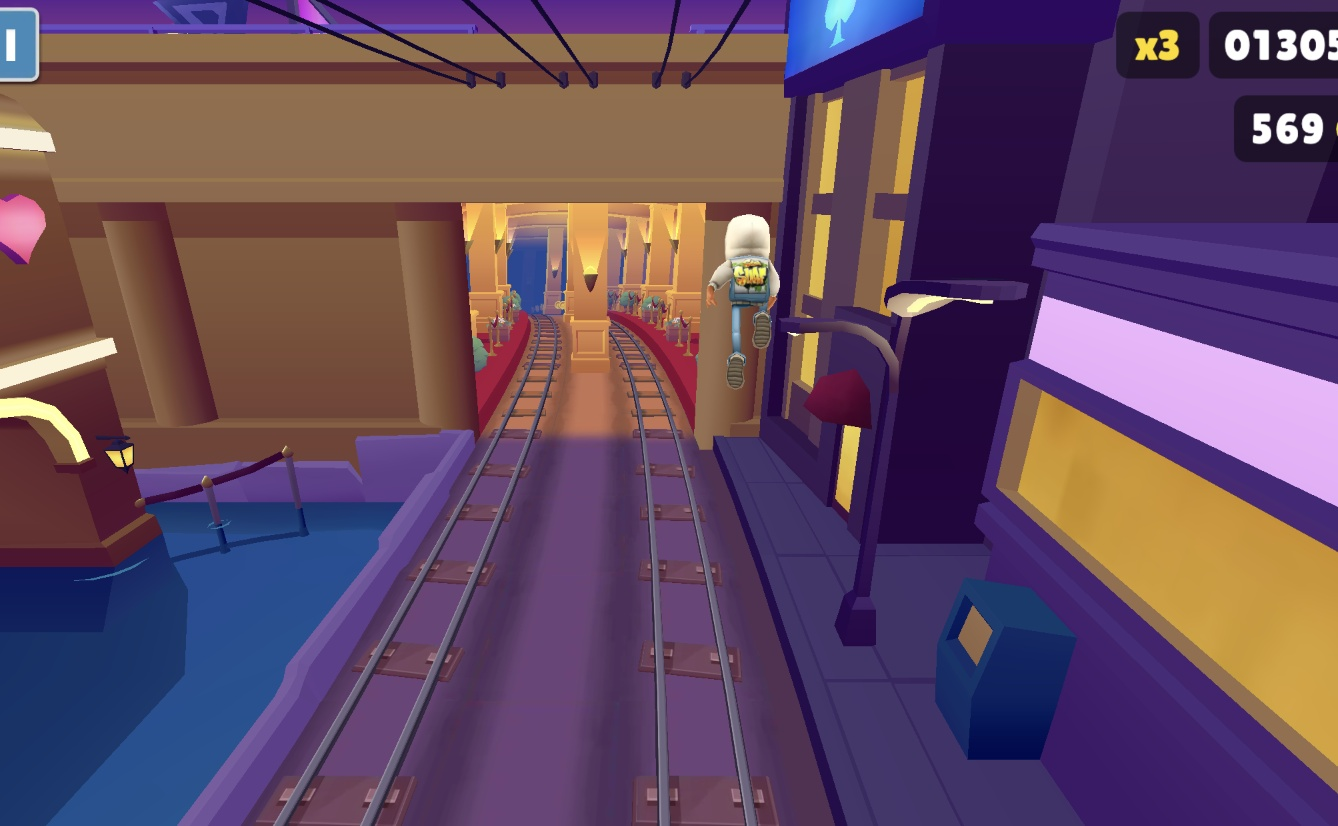pillar: (562, 205, 612, 364)
